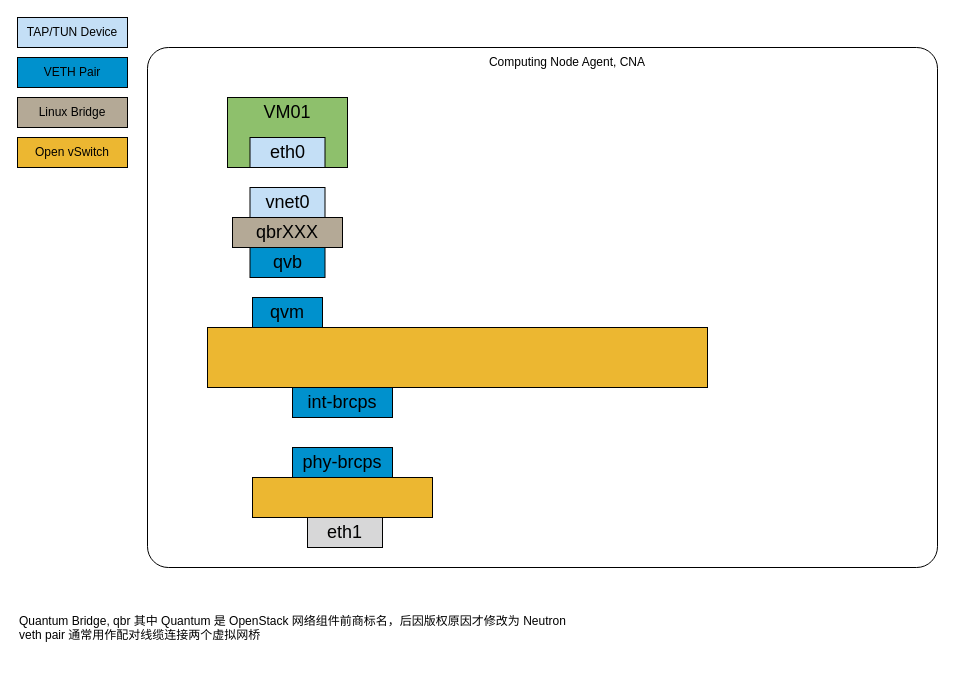
This 955x675 diagram has some shape labels left out. The shapes that lost their labels are listed below. From the top down, each one's centre as x and y in pixels, then its label:
At [457,357]: "br-int".
At [342,497]: "brcps".
